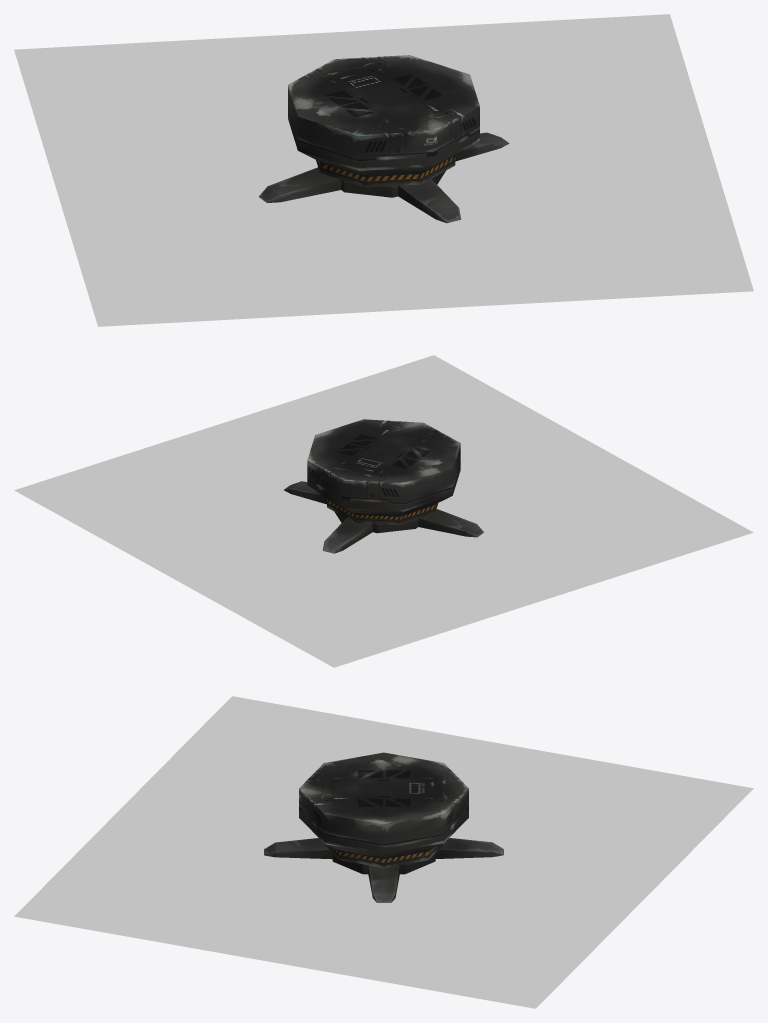
File: GungnirRiotDrone.fbx
The picture shows the model from 3 angles, top to bottom: view 1: azimuth 30°, elevation 25°; view 2: azimuth 150°, elevation 25°; view 3: azimuth 270°, elevation 25°; orthographic projection. The views are drawn at different scales.
Visible parts, largest first — view 1: Plane, Cylinder, Cylinder.001; view 2: Plane, Cylinder, Cylinder.001; view 3: Plane, Cylinder, Cylinder.001.
Part boxes in pixels (<box>): Plane: <box>14,14,753,326</box>; Cylinder: <box>288,55,479,187</box>; Cylinder.001: <box>259,132,509,223</box>; Plane: <box>14,355,753,667</box>; Cylinder: <box>307,419,460,524</box>; Cylinder.001: <box>284,481,483,553</box>; Plane: <box>14,696,753,1008</box>; Cylinder: <box>299,752,468,867</box>; Cylinder.001: <box>264,838,503,902</box>.
Bounding box in the file's own units: 262 × 50.04 × 262.
